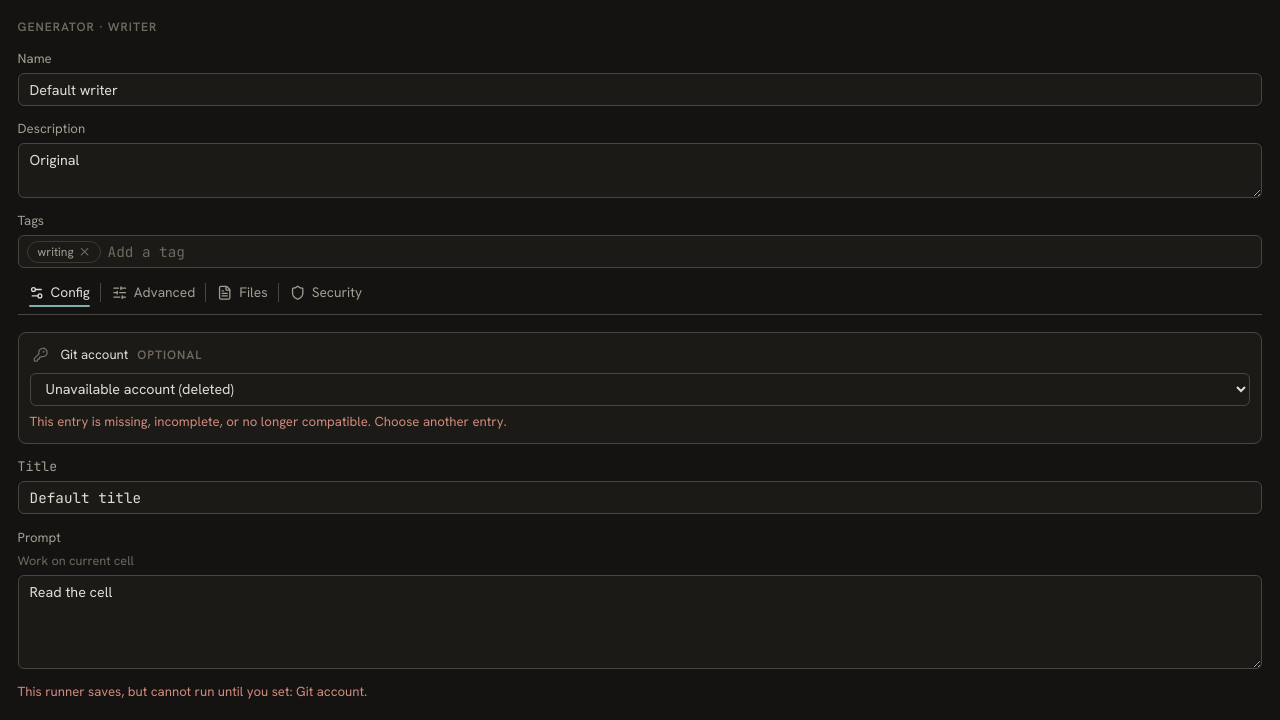
Test: Shared RunnerEditor › keeps a missing saved connection visible without silently replacing it
Expected: the text "This runner saves, but cannot run until you set: Git account." is shown, top-left (18, 683), bottom-right (367, 700)
Select "None" in the dropdown named "Git account": (640, 389) top-left (30, 373), bottom-right (1250, 406)
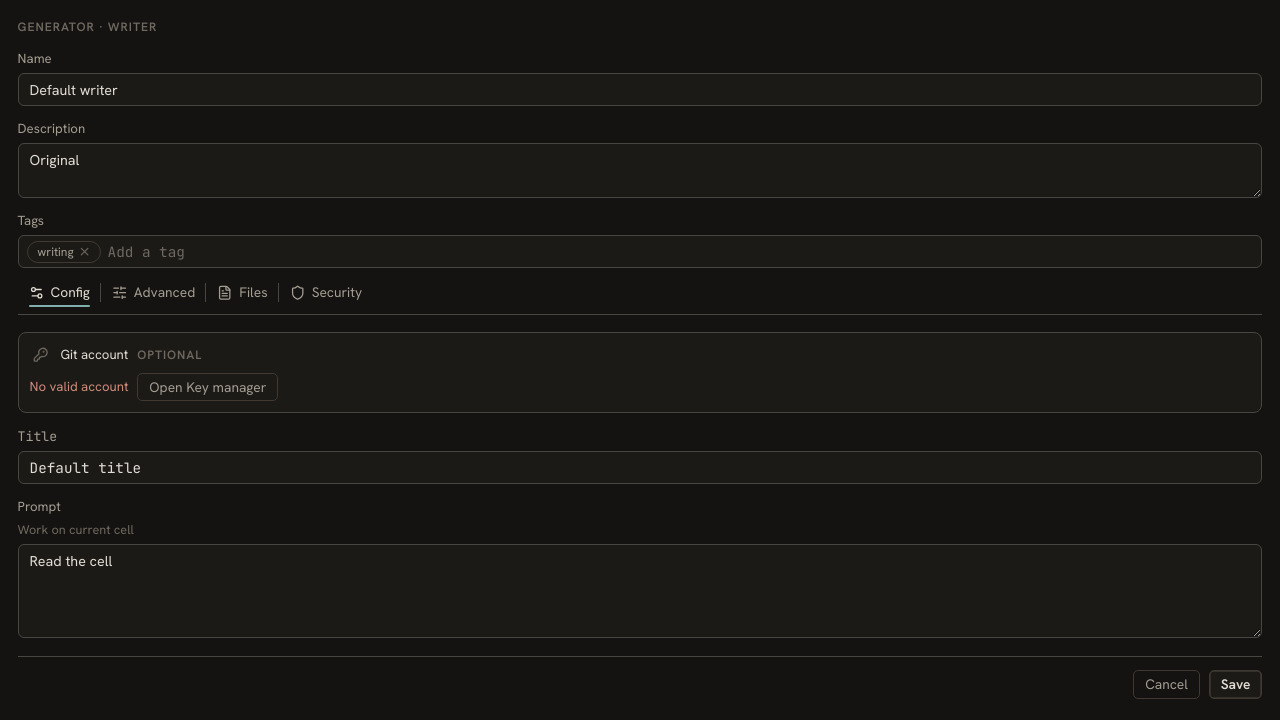
Result: the text "cannot run until you set" is gone
